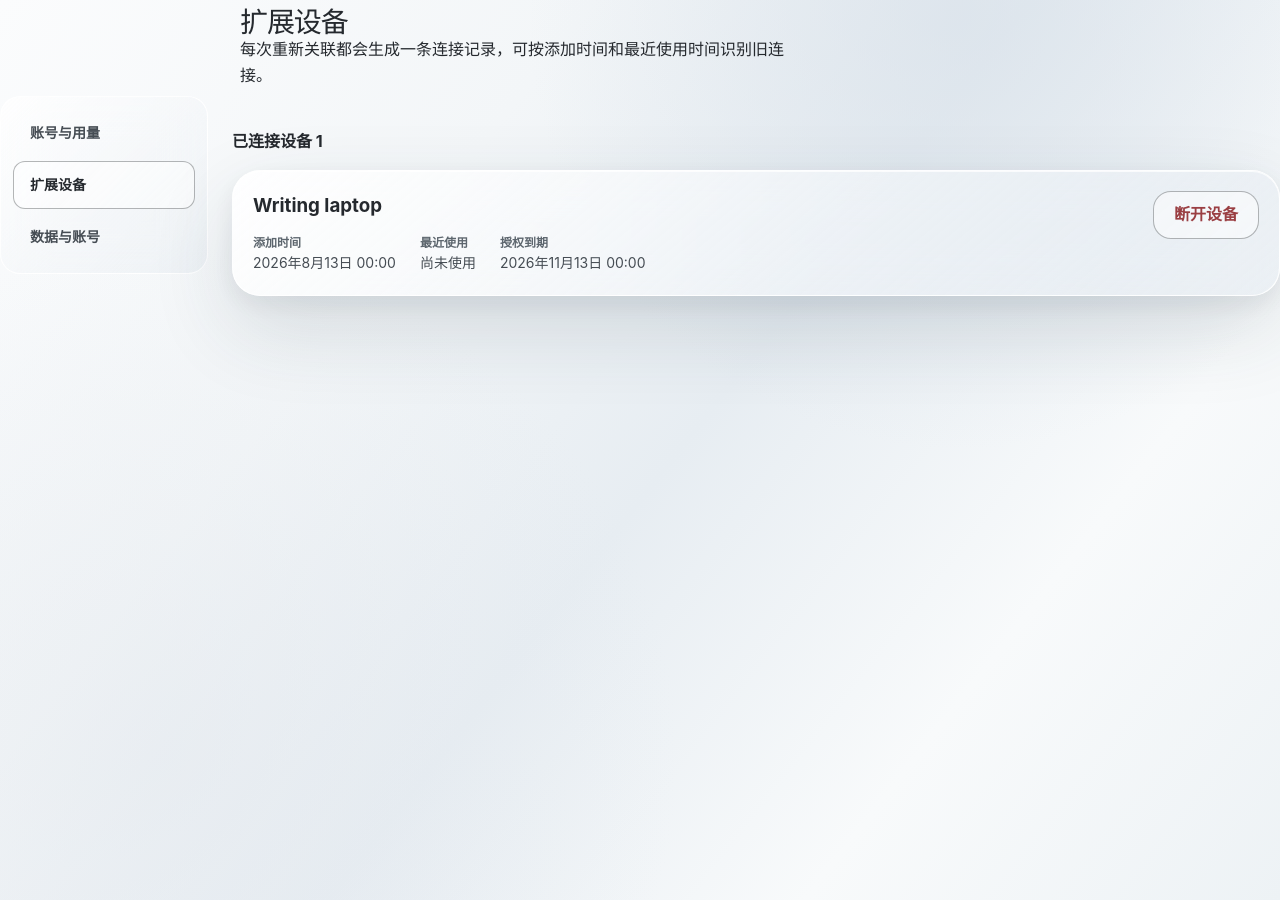
Test: Web account device sessions › keeps the device retryable when server revocation fails
Click the button "断开设备" at (1206,215), box left=1153, top=191, right=1259, bottom=239
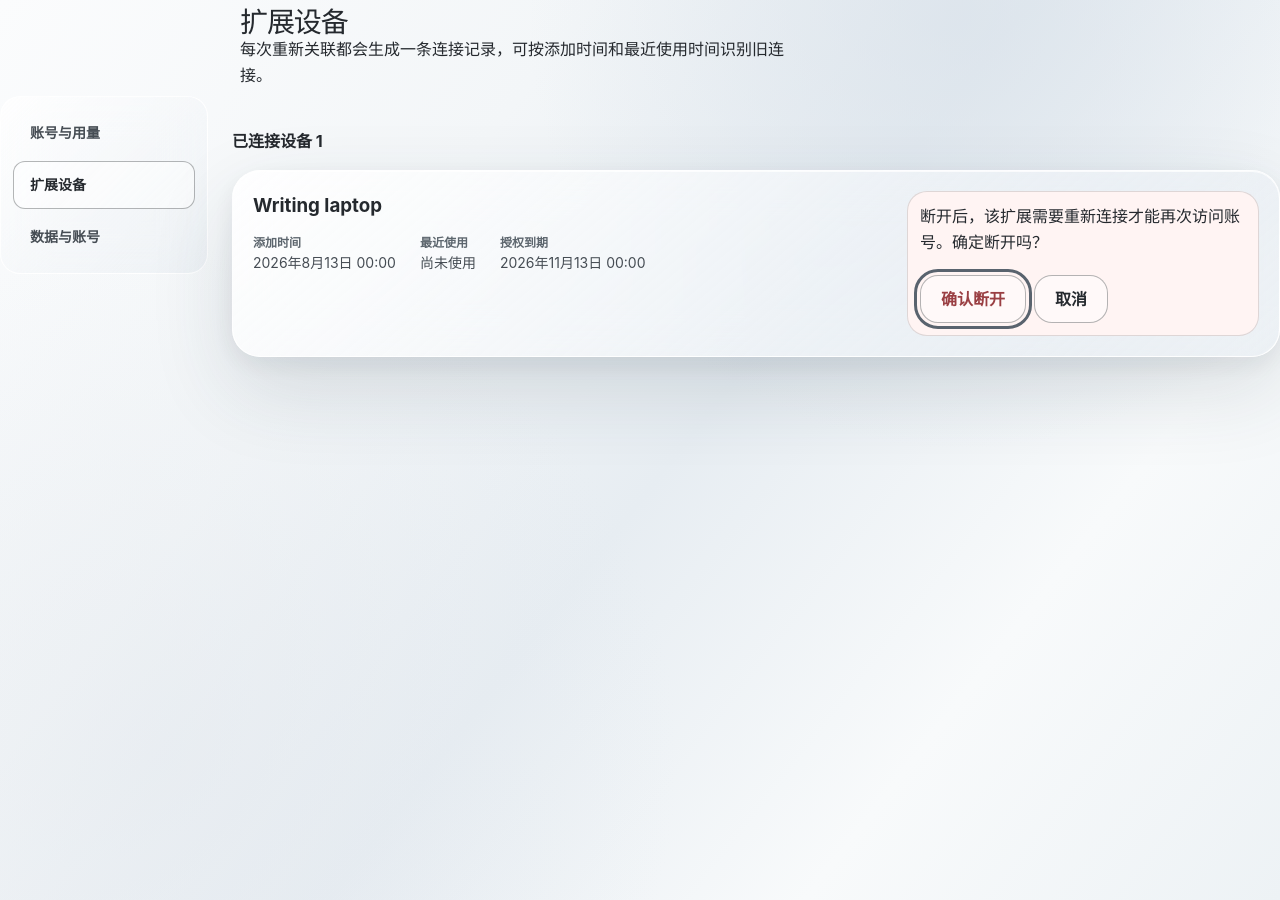
Click the button "确认断开" at (973,299), box left=920, top=275, right=1026, bottom=323
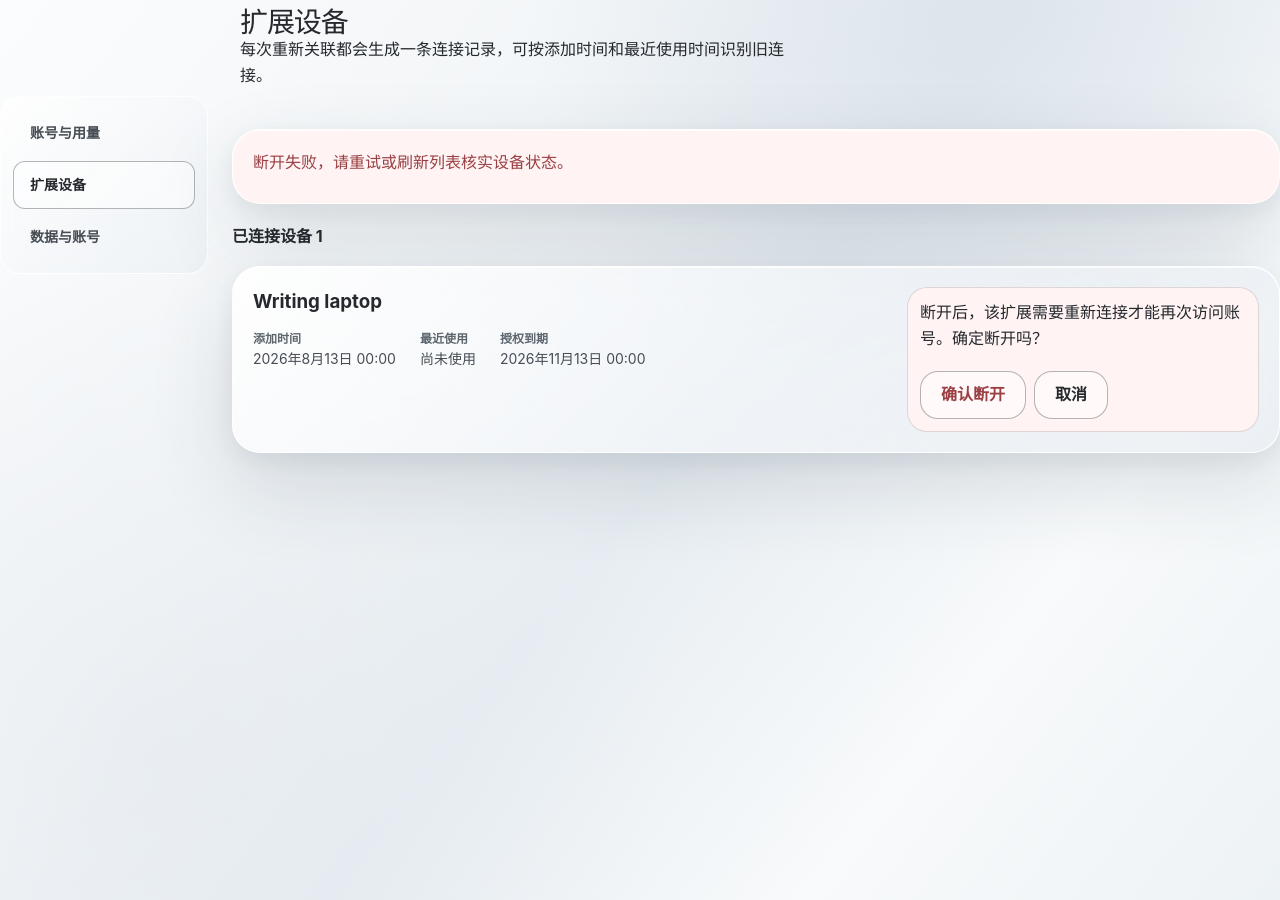
Expected: the list shows "Writing laptop", left=253, top=290, right=382, bottom=313
Now the message "断开失败，请重试或刷新列表核实设备状态。" is shown, box left=232, top=129, right=1279, bottom=204
